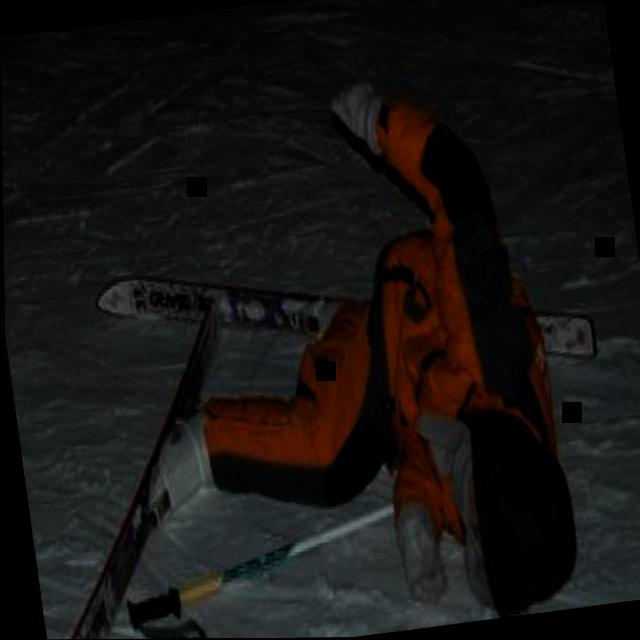Fall-Detected: (84, 29, 600, 640)
